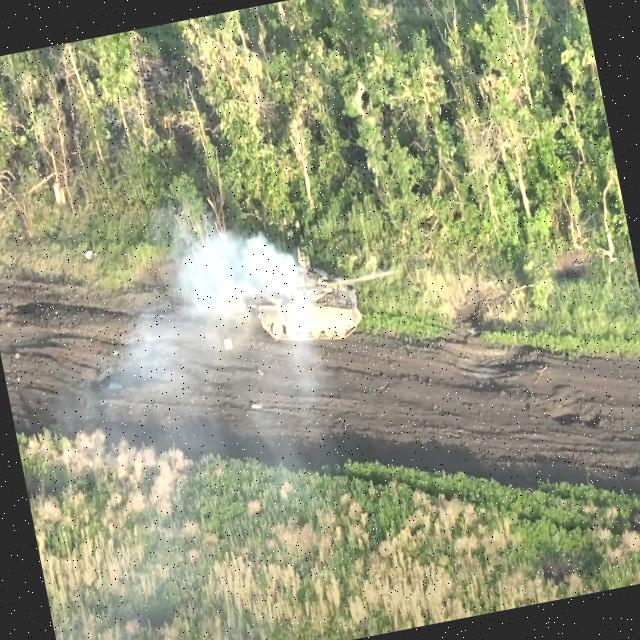MBT: (245, 231, 409, 360)
